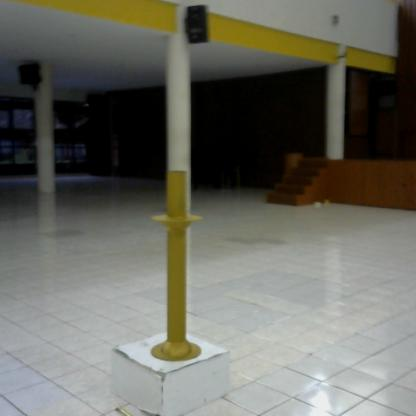pole: (144, 163, 209, 370)
